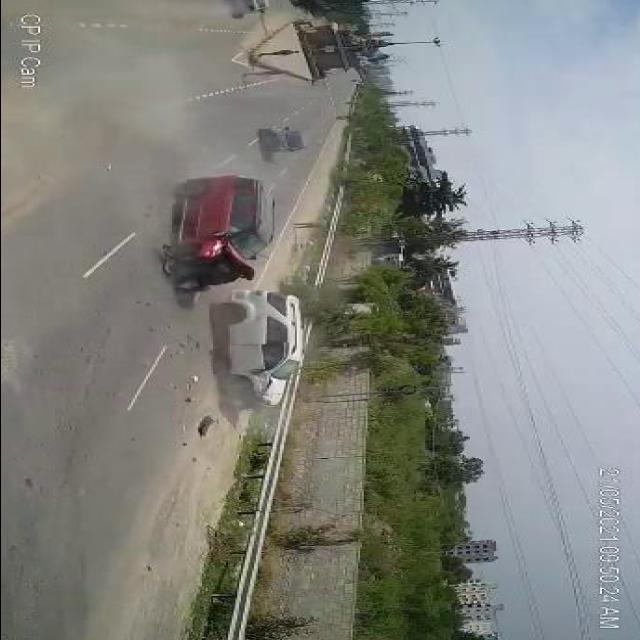accident: (149, 169, 315, 419)
